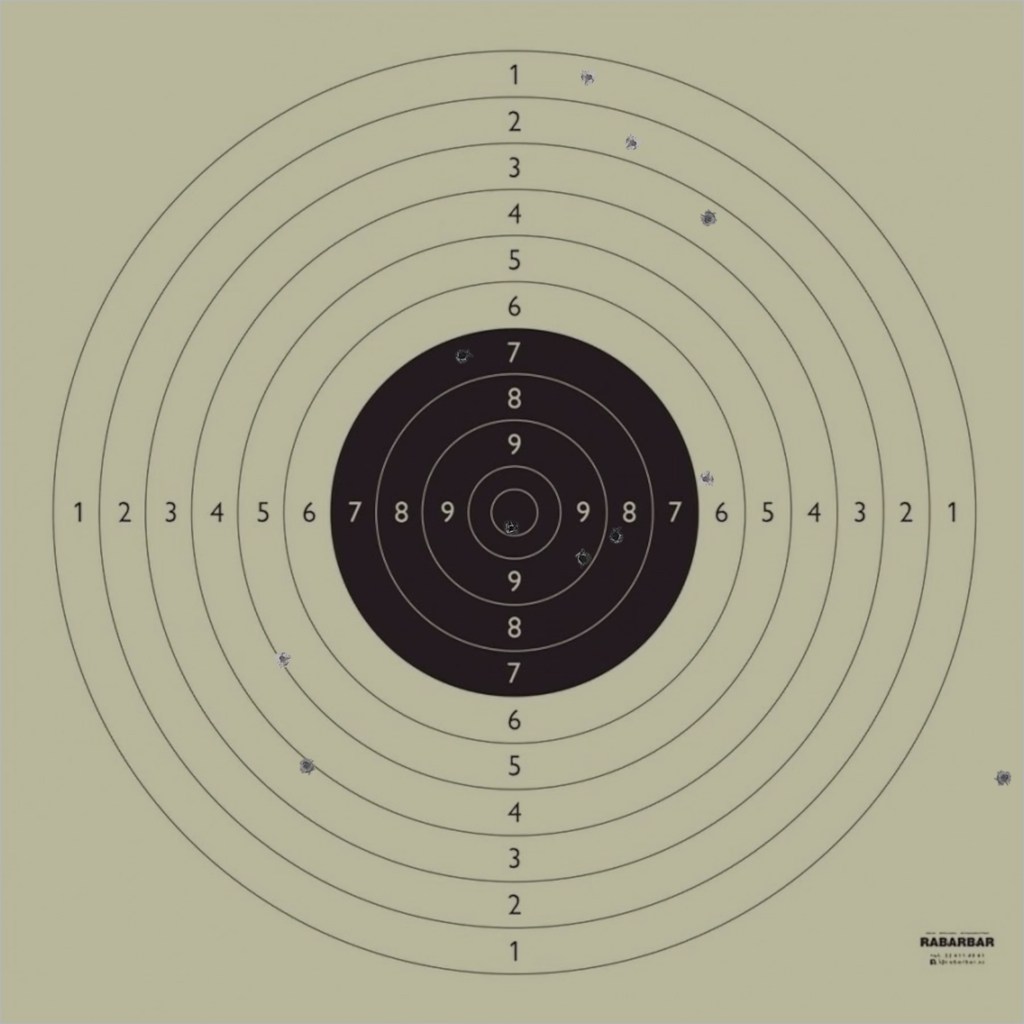0 punktow: (995, 769, 1013, 787)
1 punkt: (579, 68, 598, 87)
10 punktow: (502, 519, 520, 538)
2 punkty: (624, 134, 642, 152)
3 punkty: (699, 210, 717, 228)
4 punkty: (297, 756, 316, 775)
5 punktow: (274, 650, 292, 668)
6 punktow: (697, 470, 715, 488)
7 punktow: (454, 346, 472, 365)
8 punktow: (607, 527, 625, 545)
9 punktow: (573, 549, 592, 568)
